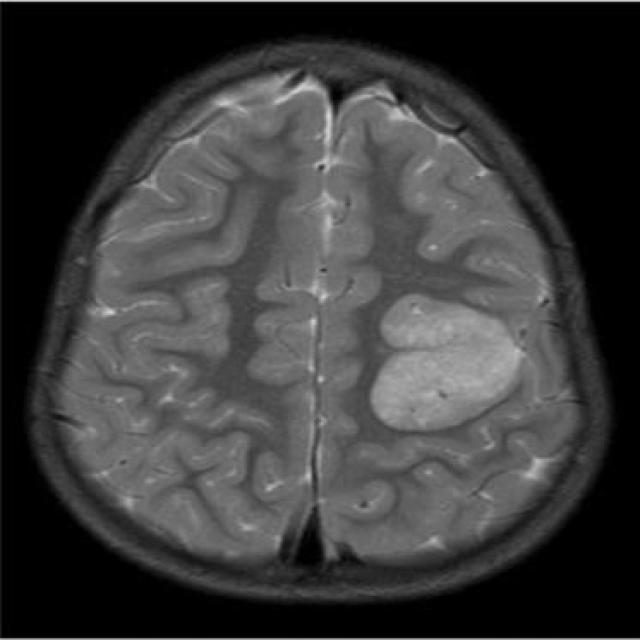glioma: (376, 292, 528, 432)
